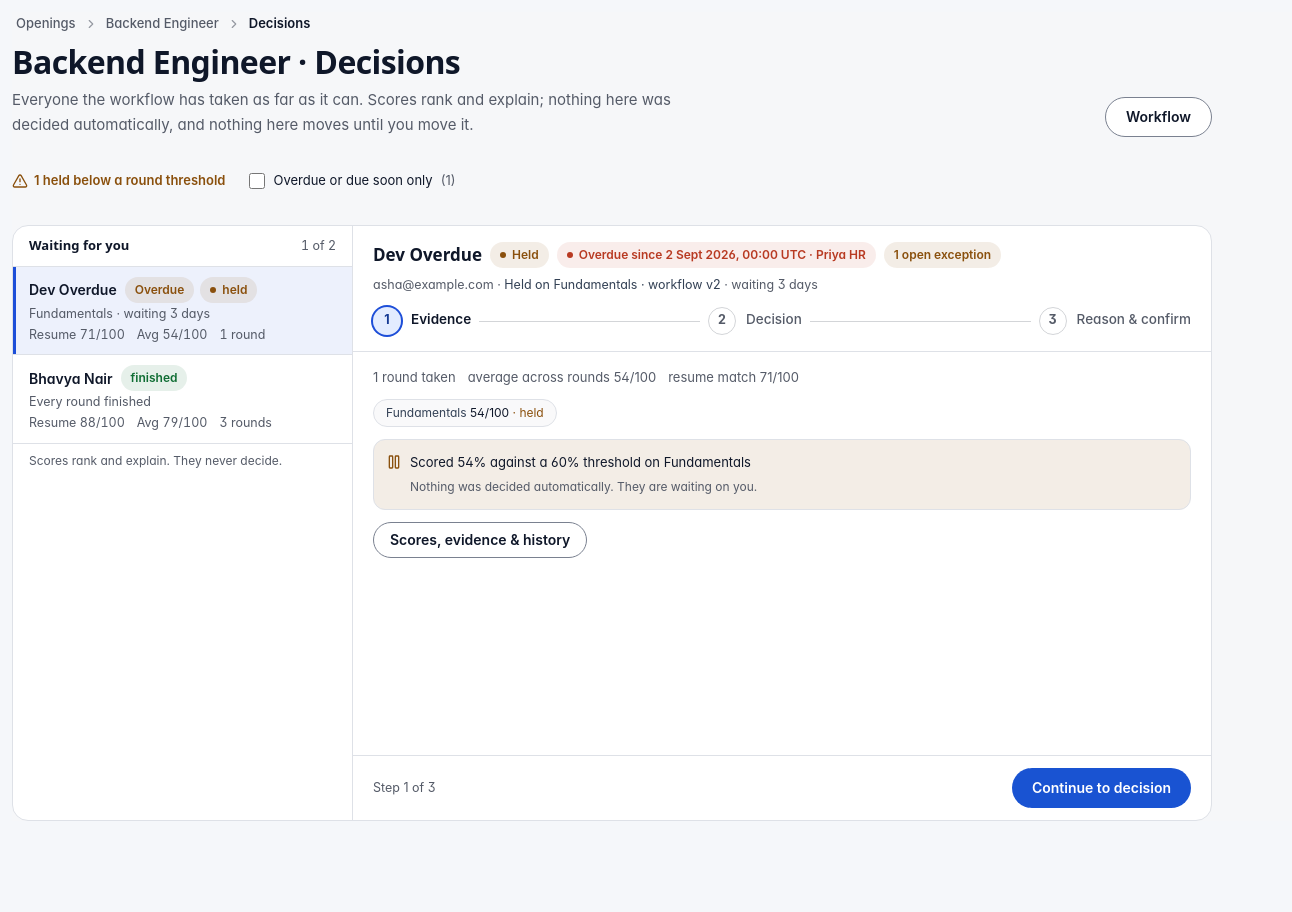
it: DecisionQueue - SLA (PH4-O1, informational only) › filters to overdue-or-due-soon without hiding anyone from the underlying queue
Expected: the button with test id "queue-row" is shown, [13,355,352,443]
Click the checkbox labelled "Overdue or due soon only (1)" at (258, 181), box [250,173,266,189]
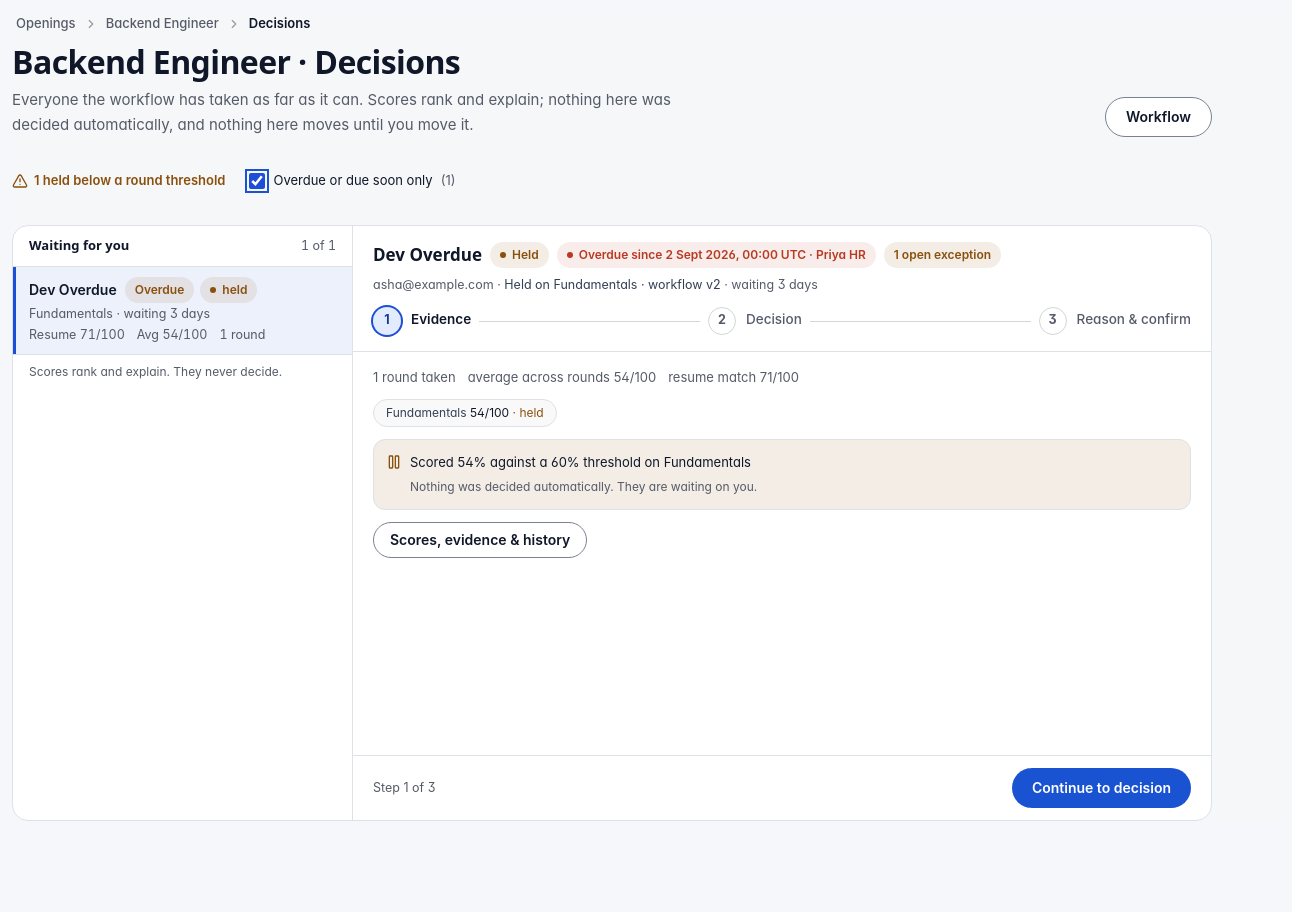
Expected: the number of buttons with test id "queue-row" is 1, [13,267,352,354]
Click the checkbox labelled "Overdue or due soon only (1)" at (258, 181), box [250,173,266,189]
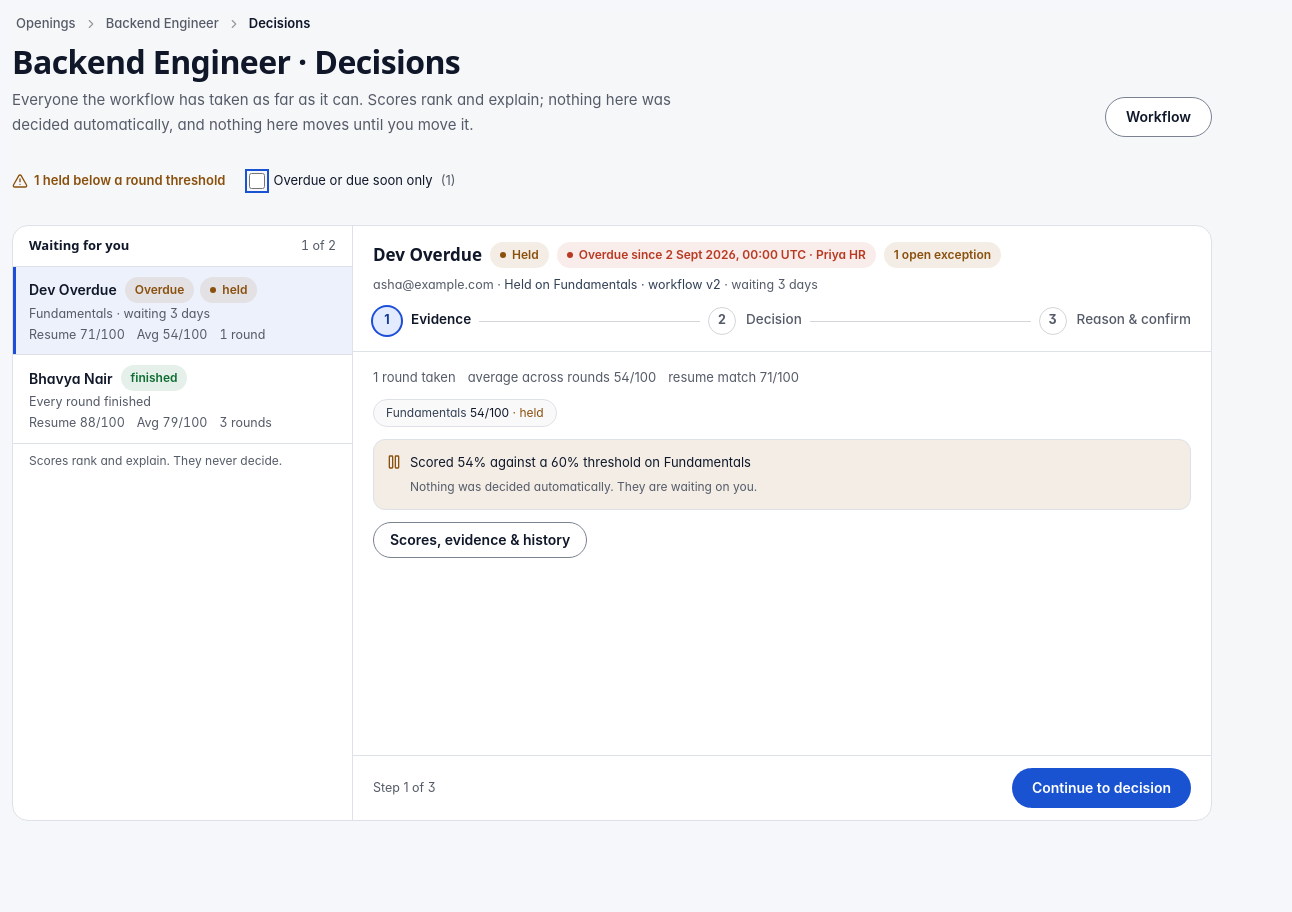
Expected: the number of buttons with test id "queue-row" is 2, [13,267,352,354]; [13,355,352,443]
